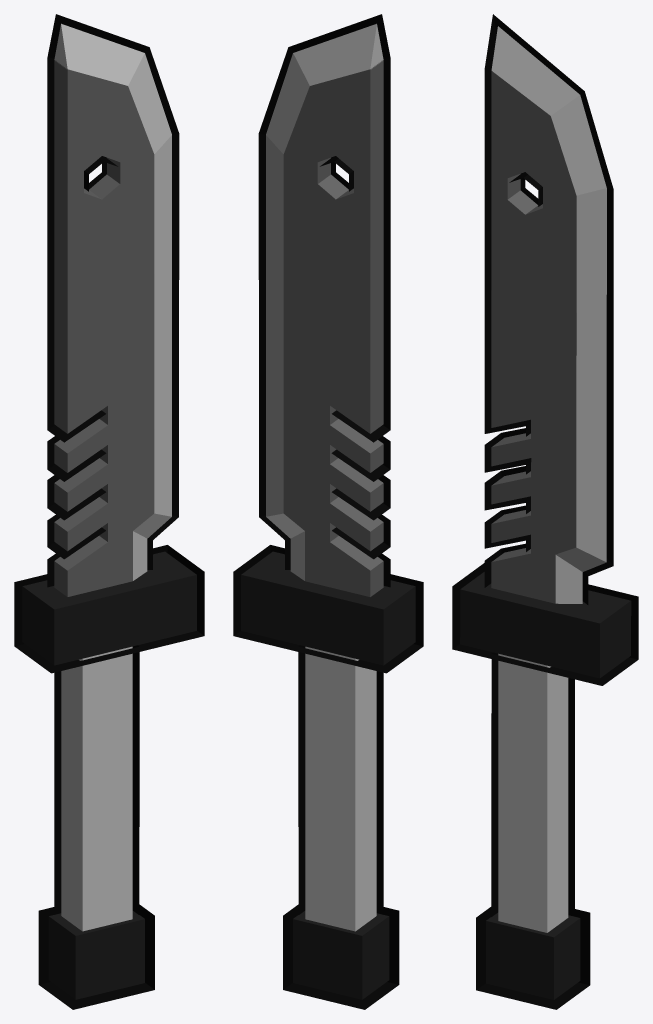
File: Dagger.glb
3 views of the same model, side by side, from view 1: azimuth 30°, elevation 25°; view 2: azimuth 150°, elevation 25°; view 3: azimuth 330°, elevation 25° (orthographic). The views are drawn at different scales.
Visible parts, largest first — view 1: Plane.000, Plane.001; view 2: Plane.000, Plane.001; view 3: Plane.000, Plane.001.
Boxes of the visible parts, x1,y1,x2,y2 form: Plane.000: (22,23,196,999); Plane.001: (14,14,204,1009); Plane.000: (241,23,415,999); Plane.001: (233,14,423,1009); Plane.000: (460,26,631,999); Plane.001: (452,14,638,1009).
Size of the model in its own units: 0.3244 by 1.99 by 0.1352.
Materials: 2 (1 with a texture image).
